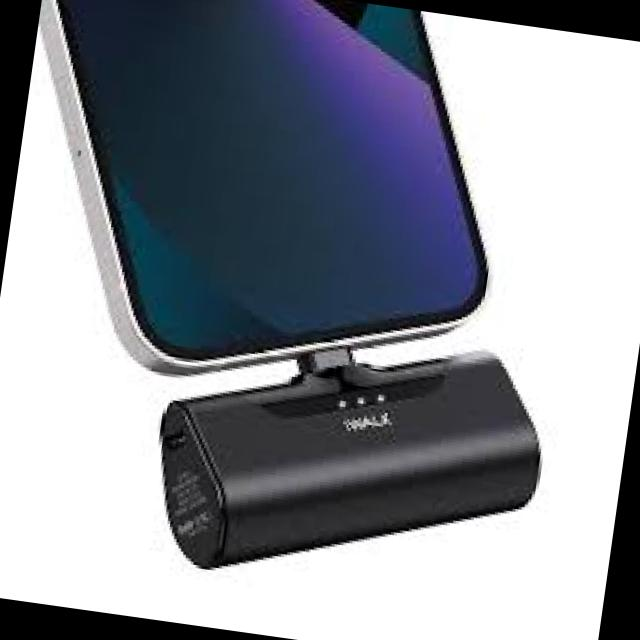portable-charger: (138, 302, 564, 615)
